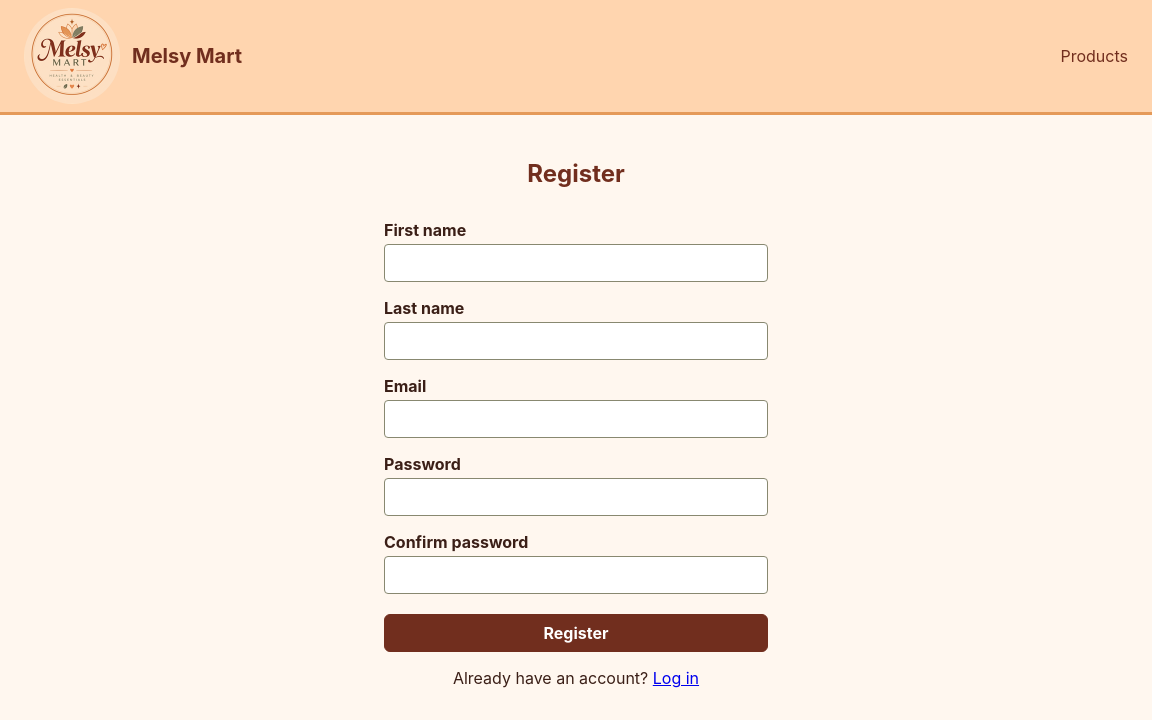
Scenario: links to the login page for people who already have an account
Expected: the text "Already have an account? Log in" is shown, 453,668 -> 699,688
Click the link "Log in".
click(676, 678)  # box 653,668 -> 699,688
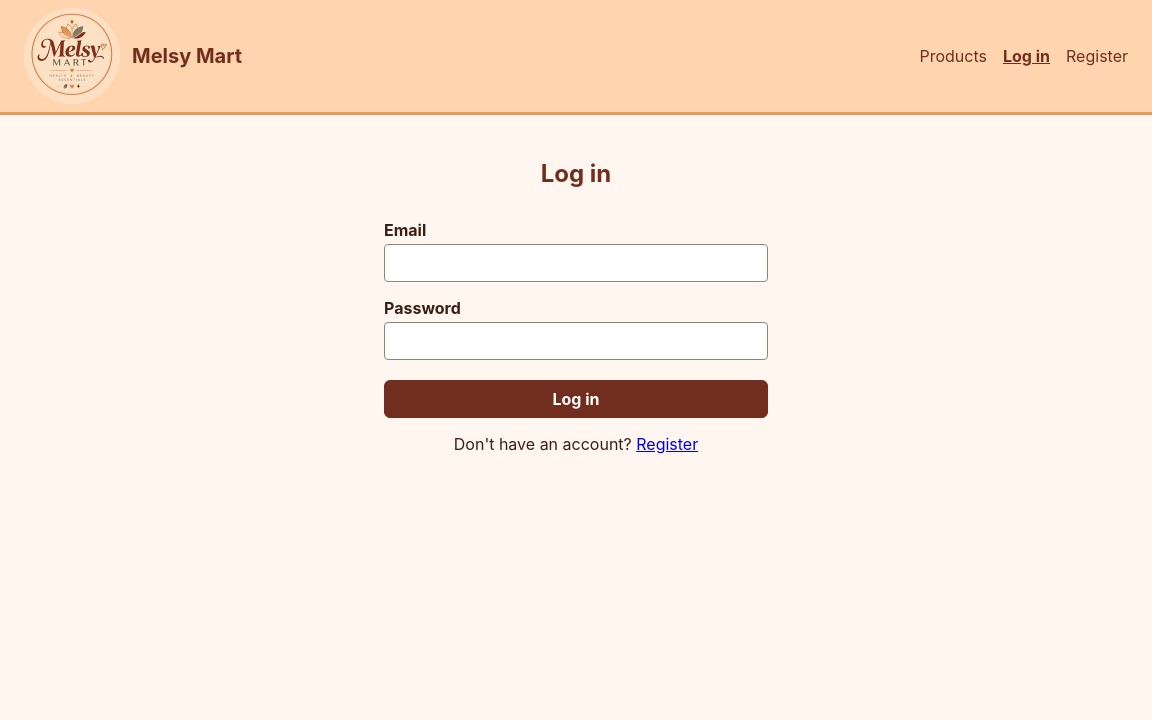
Expected: the heading "Log in" is shown, 541,159 -> 611,188
